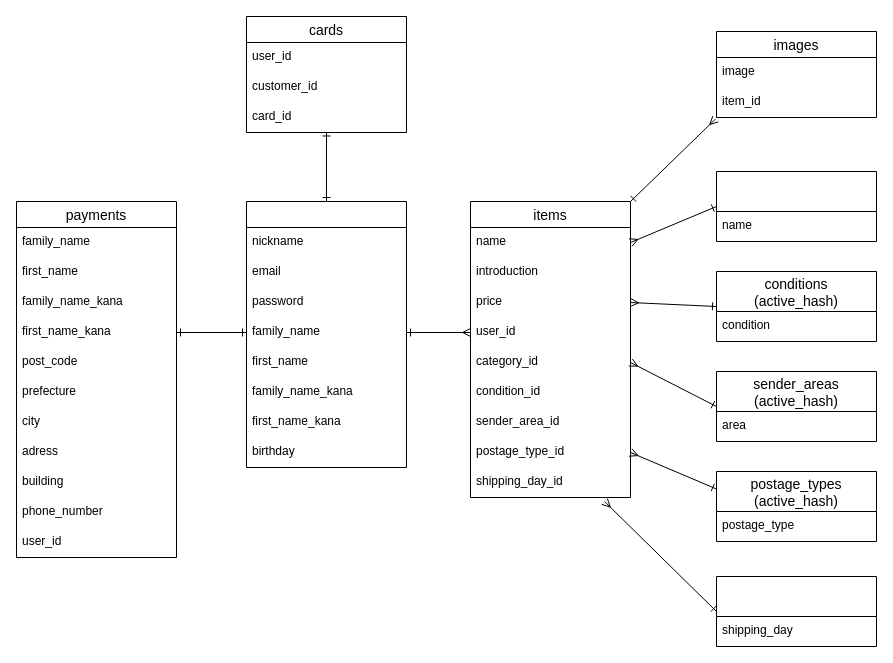
Image size: 893x663. Some labels were removed from this diagram. The shapes that lost their labels are listed below. From the top down, each one's box as (x1, y1, x2, y2) in pixels, then its label:
(716, 170, 876, 242): categories (active_hash)
(246, 200, 406, 468): users
(716, 576, 876, 646): shipping_days (active_hash)
